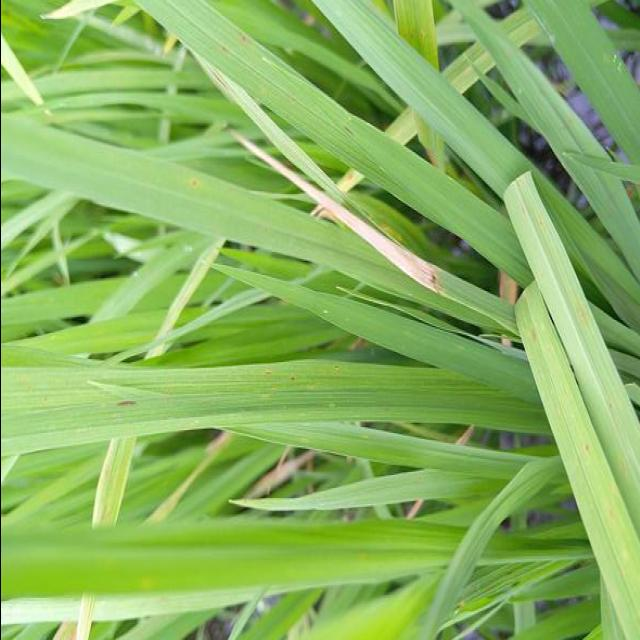Leaf Blight: (228, 127, 440, 291)
